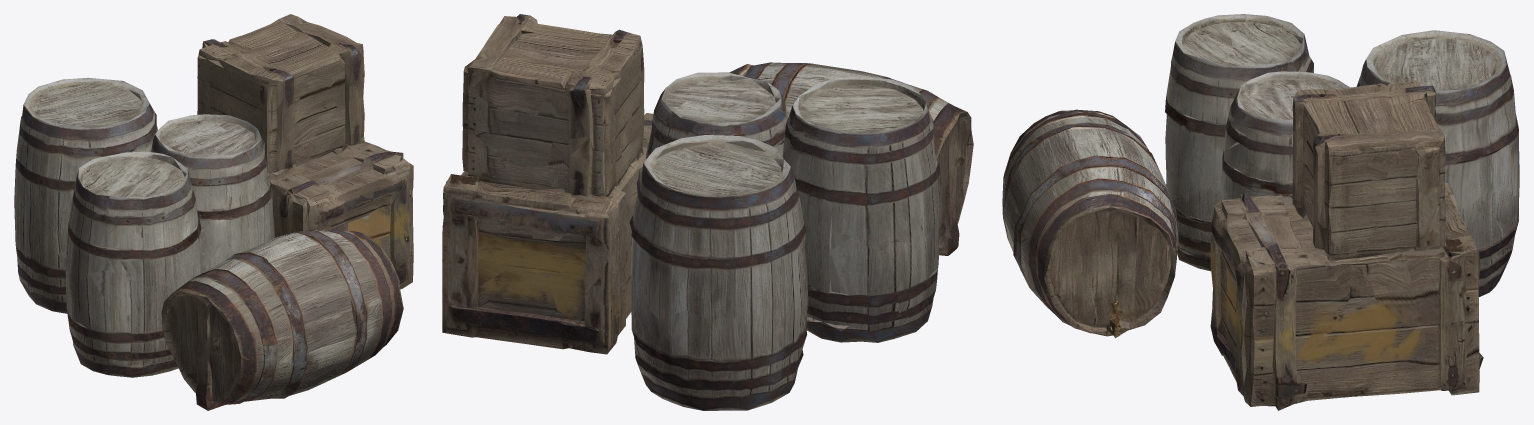
The model's file is barrels_b.glb.
The picture shows the model from 3 angles, left to right: view 1: azimuth 30°, elevation 25°; view 2: azimuth 150°, elevation 25°; view 3: azimuth 270°, elevation 25°; orthographic projection. The views are drawn at different scales.
Visible parts, largest first — view 1: mesh_node; view 2: mesh_node; view 3: mesh_node.
Boxes of the visible parts, <box> form: mesh_node: <box>14,14,413,410</box>; mesh_node: <box>442,14,973,410</box>; mesh_node: <box>1002,14,1519,410</box>.
Size of the model in its own units: 1.69 by 1.05 by 1.89.
1 material, 1 textured.
